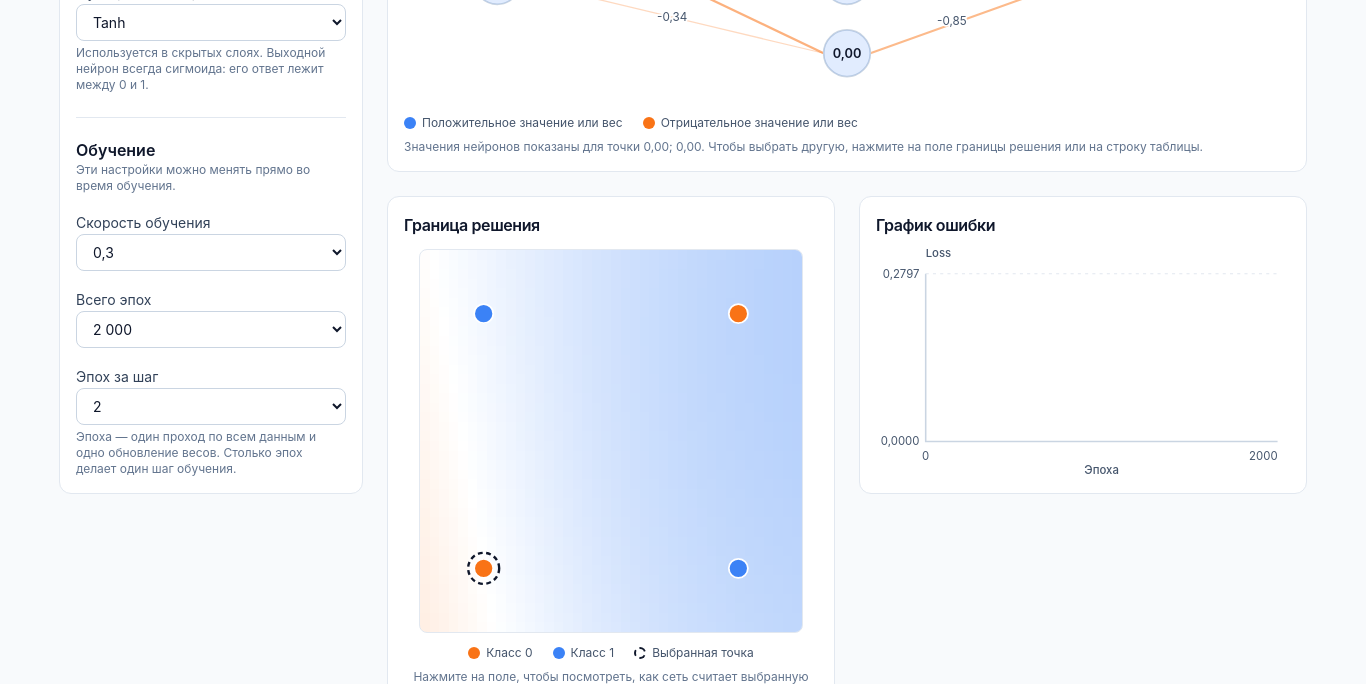
Test: /neural-network › training › finishes after the chosen number of epochs and stops by itself
(page scrolled)
Select "100" in the dropdown labelled "Всего эпох": {"x": 211, "y": 330} [76,311,346,348]
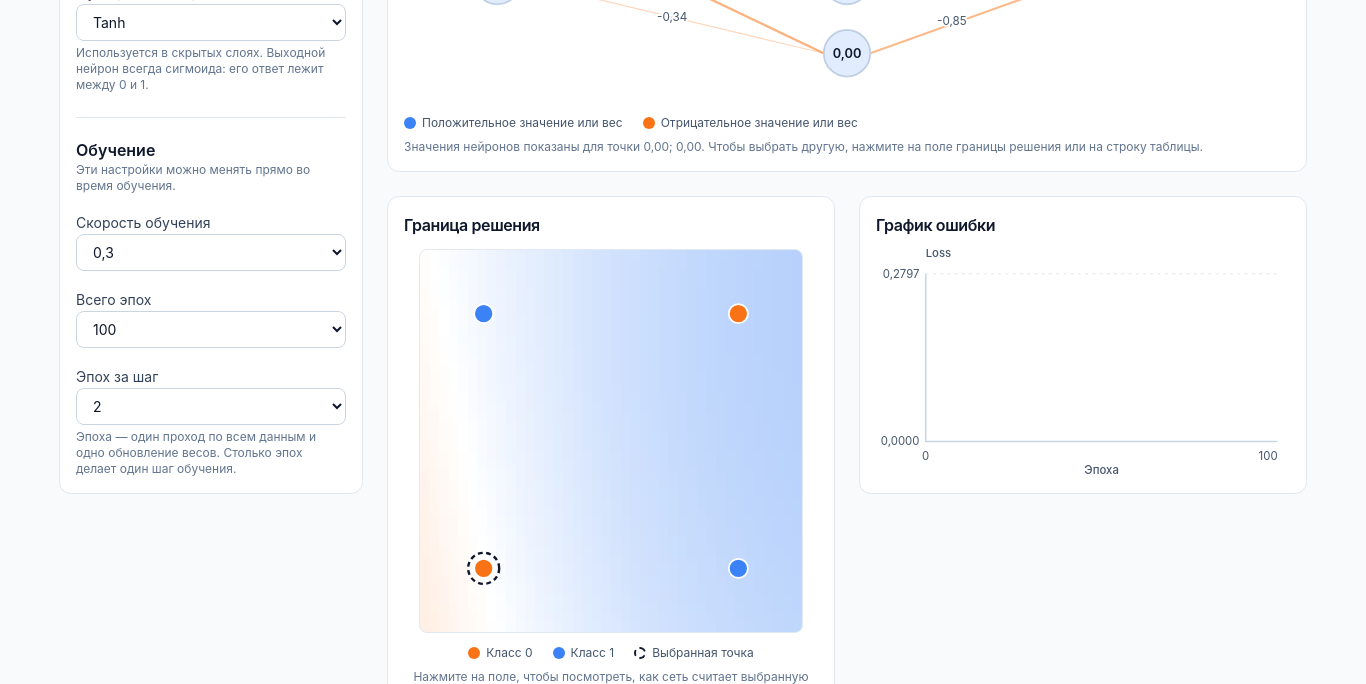
Select "25" in the dropdown labelled "Эпох за шаг": {"x": 211, "y": 406} [76,388,346,425]
(page scrolled)
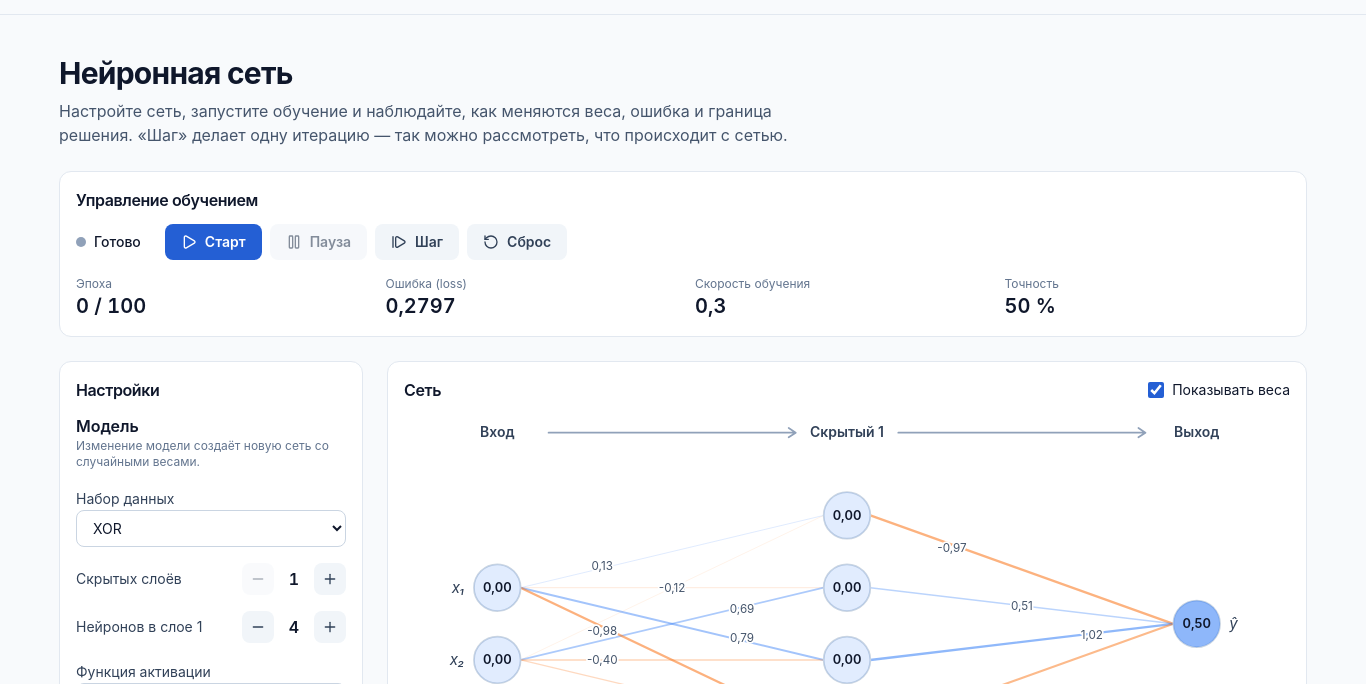
Click the button "Старт": {"x": 213, "y": 242} [165,224,262,260]
Wait 1000 ms
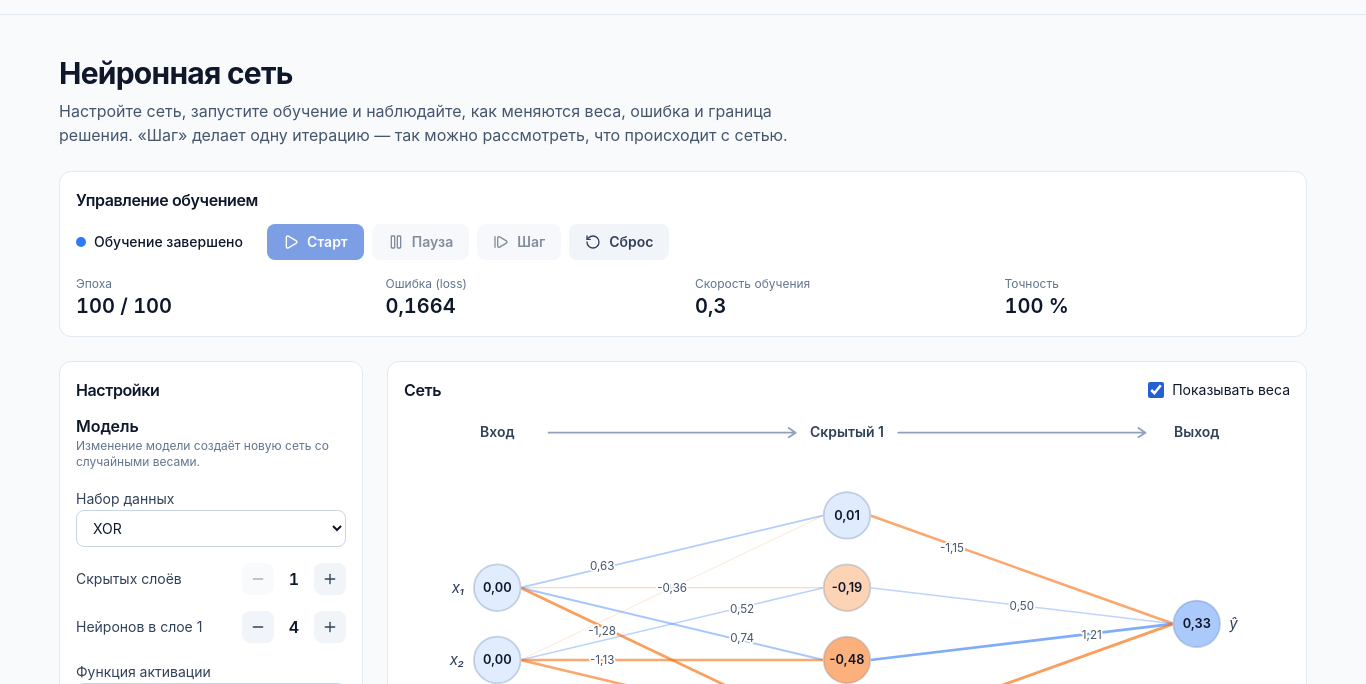
Result: the message reads "Обучение завершено" at [94,233,243,250]
Result: the button "Старт" is disabled at [267,224,364,260]
Result: the button "Шаг" is disabled at [477,224,561,260]
